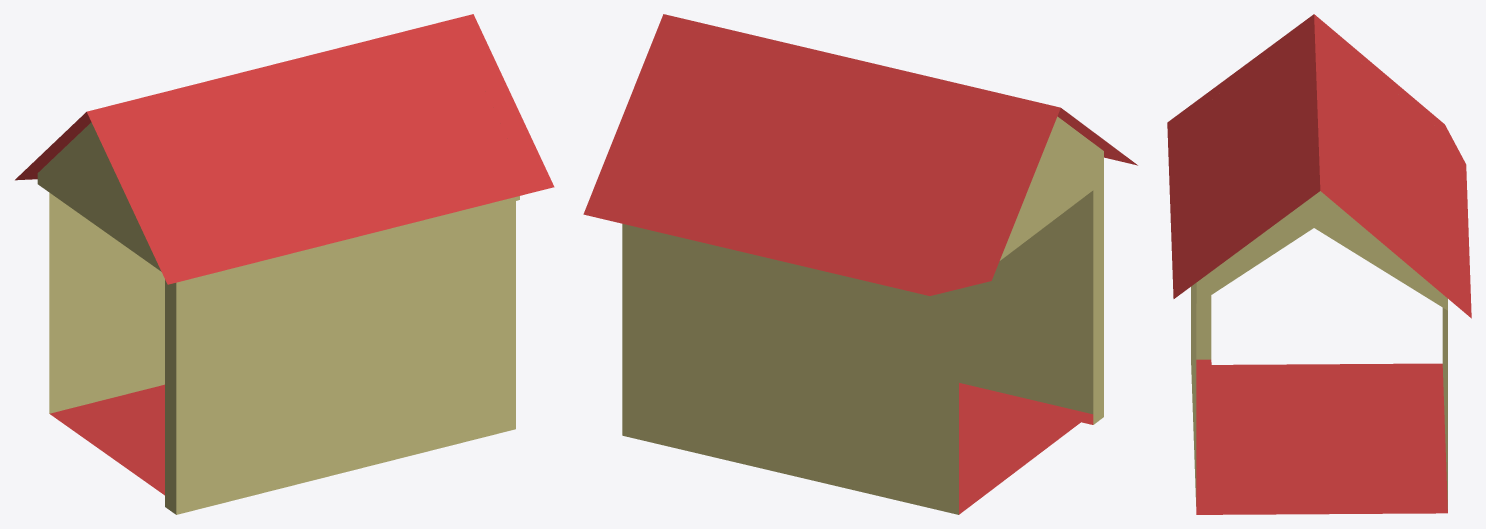
3 views of the same model, side by side, from view 1: azimuth 30°, elevation 25°; view 2: azimuth 150°, elevation 25°; view 3: azimuth 270°, elevation 25° (orthographic). The views are drawn at different scales.
Size of the model in its own units: 18.12 by 13.04 by 15.84.
